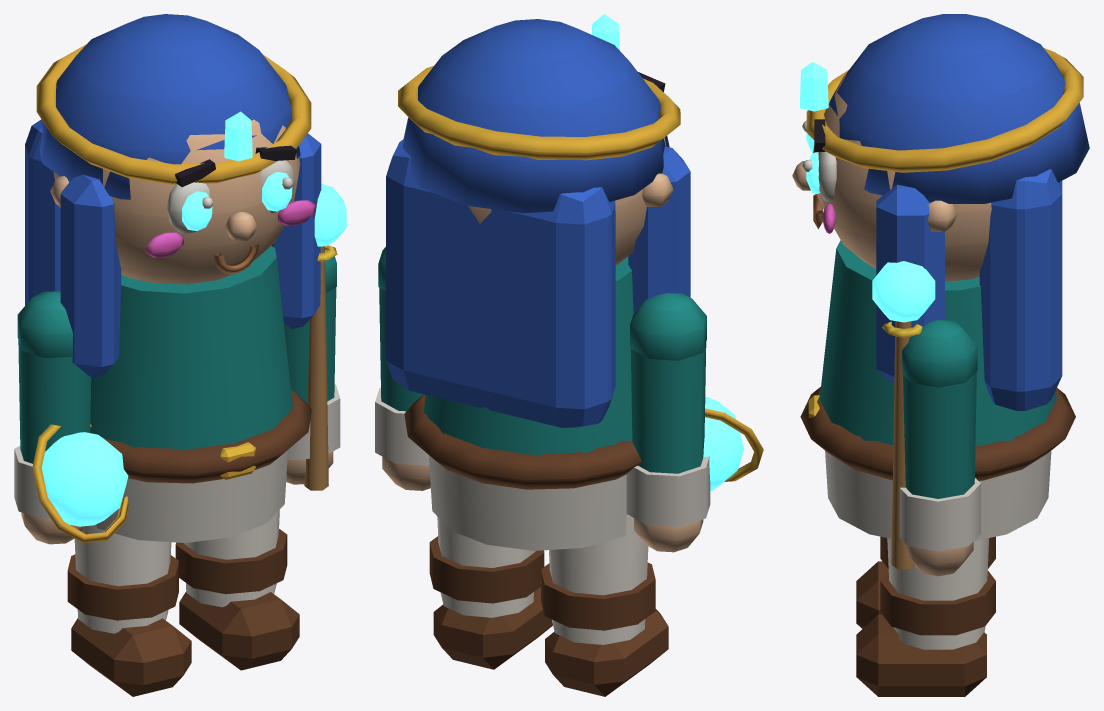
Rendered from hero_selene.glb.
3 views of the same model, side by side, from view 1: azimuth 30°, elevation 25°; view 2: azimuth 150°, elevation 25°; view 3: azimuth 270°, elevation 25° (orthographic). The views are drawn at different scales.
Visible parts, largest first — view 1: body_t0_palette, legl_t0_palette, legr_t0_palette, arml_t0_palette, armr_t0_palette, arml_t0_crystal, body_t0_crystal, armr_t0_crystal; view 2: body_t0_palette, arml_t0_palette, legl_t0_palette, legr_t0_palette, armr_t0_palette, arml_t0_crystal, body_t0_crystal; view 3: body_t0_palette, armr_t0_palette, legr_t0_palette, armr_t0_crystal, legl_t0_palette, body_t0_crystal.
Part boxes in pixels (bbox=[...]): body_t0_palette: bbox=[25, 14, 321, 542]; legl_t0_palette: bbox=[67, 524, 191, 696]; legr_t0_palette: bbox=[175, 510, 299, 670]; arml_t0_palette: bbox=[14, 290, 128, 544]; armr_t0_palette: bbox=[284, 245, 340, 490]; arml_t0_crystal: bbox=[41, 432, 128, 526]; body_t0_crystal: bbox=[182, 111, 292, 230]; armr_t0_crystal: bbox=[314, 183, 346, 246]; body_t0_palette: bbox=[386, 19, 690, 550]; arml_t0_palette: bbox=[626, 293, 763, 552]; legl_t0_palette: bbox=[541, 515, 668, 696]; legr_t0_palette: bbox=[429, 517, 552, 669]; armr_t0_palette: bbox=[375, 247, 430, 490]; arml_t0_crystal: bbox=[703, 397, 744, 490]; body_t0_crystal: bbox=[592, 14, 619, 50]; body_t0_palette: bbox=[792, 14, 1089, 540]; armr_t0_palette: bbox=[882, 319, 980, 576]; legr_t0_palette: bbox=[856, 538, 995, 696]; armr_t0_crystal: bbox=[872, 261, 935, 322]; legl_t0_palette: bbox=[856, 536, 995, 628]; body_t0_crystal: bbox=[800, 62, 828, 193].
Bounding box in the file's own units: 0.285 × 0.508 × 0.216.
